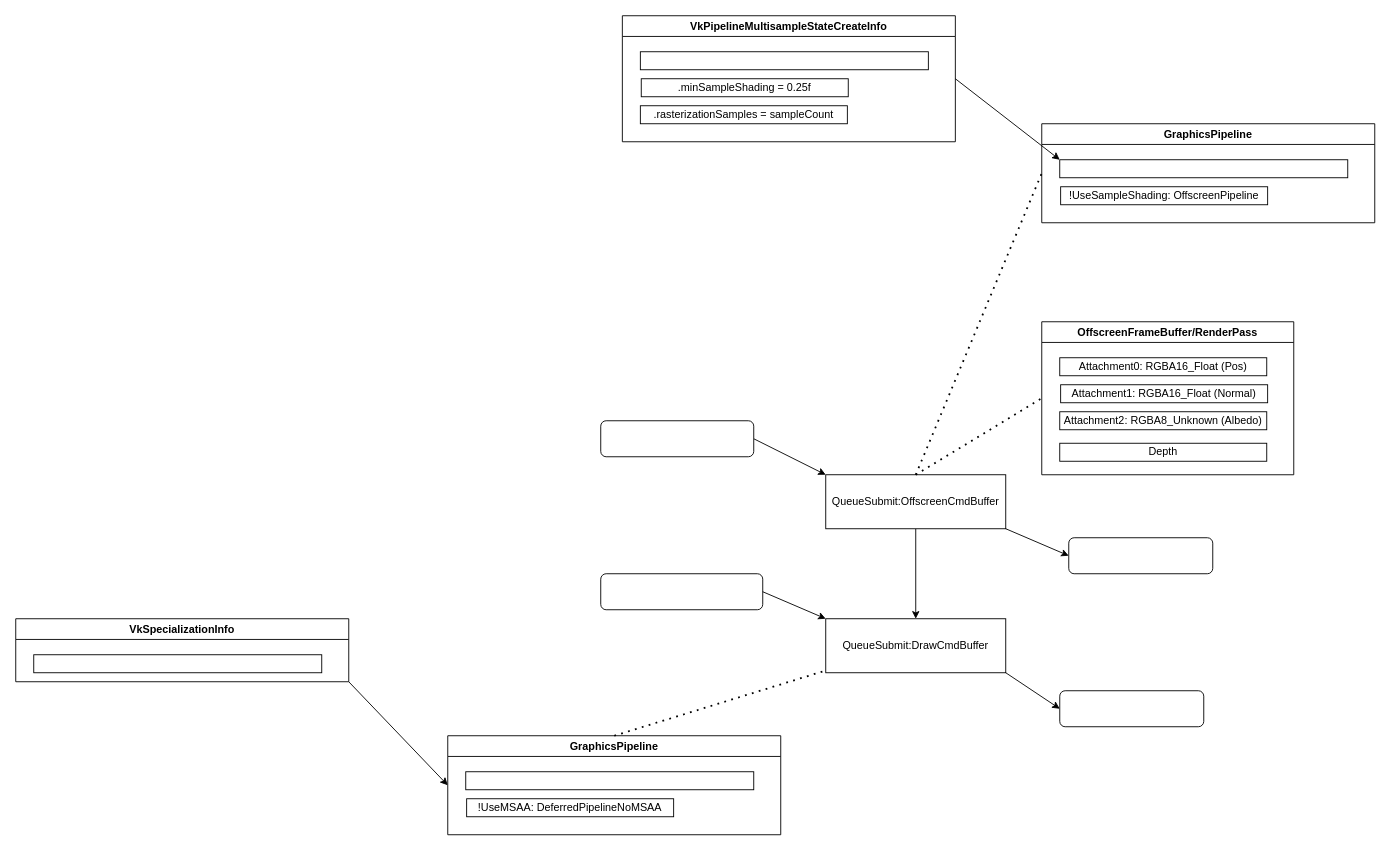
Image size: 1391x851. Some labels were removed from this diagram. The shapes that lost their labels are listed below. From the top down, each one's centre as x and y in pixels, then its label:
(x=783, y=60): .sampleShadingEnable = VK_TRUE
(x=1203, y=168): UseSampleShading: OffscreenSampleShadingPipelline
(x=677, y=438): Wait: PresentCompleteSemaphore
(x=1140, y=555): Signal: OffscreenSemaphore
(x=681, y=591): Wait: OffscreenSemaphore
(x=177, y=663): sampleCount
(x=1131, y=708): Signal: RenderComplete
(x=609, y=780): UseMSAA: DeferredPipeline
